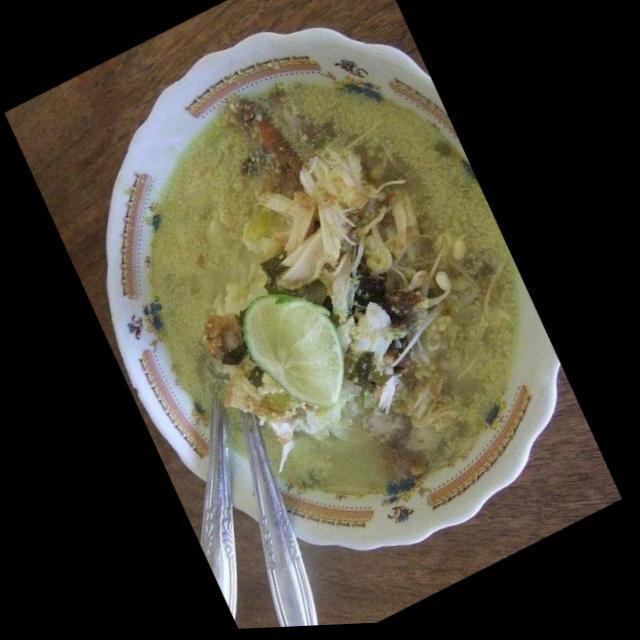Soto: (118, 86, 537, 506)
